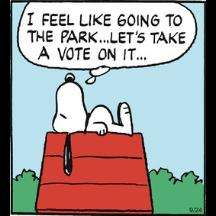snoopy: (52, 73, 134, 177)
